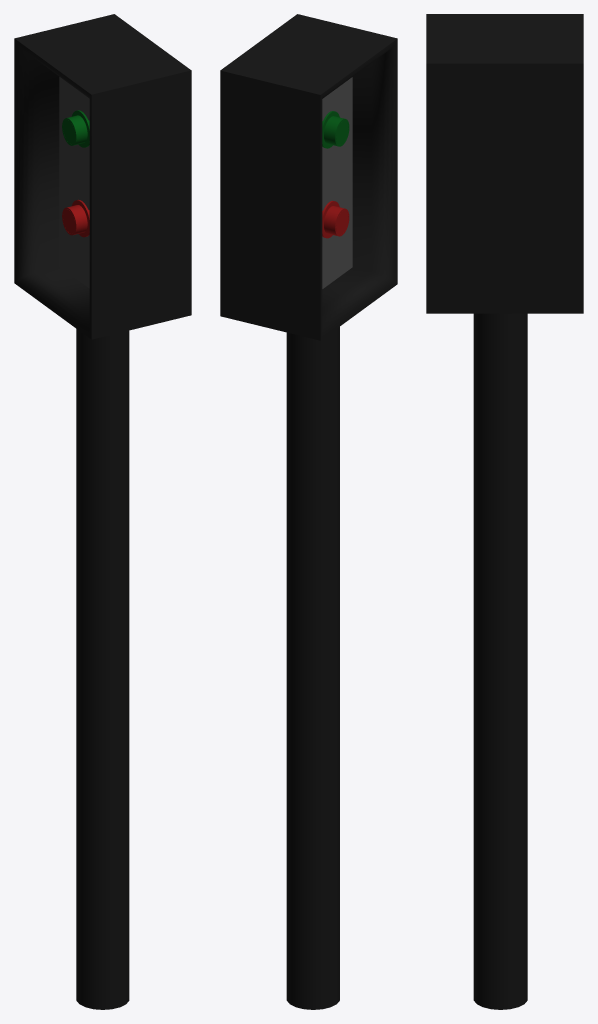
File: Button.FBX
3 renders of one model, left to right at view 1: azimuth 30°, elevation 25°; view 2: azimuth 150°, elevation 25°; view 3: azimuth 270°, elevation 25°, orthographic.
Visible parts, largest first — view 1: Box008, Cylinder002, 按鈕開關, 按鈕開關001; view 2: Box008, Cylinder002, 按鈕開關, 按鈕開關001; view 3: Box008, Cylinder002.
Part boxes in pixels (x1,y1,x2,y2): Box008: [14, 14, 191, 339]; Cylinder002: [76, 329, 129, 1009]; 按鈕開關: [62, 110, 89, 147]; 按鈕開關001: [62, 199, 89, 237]; Box008: [220, 14, 397, 340]; Cylinder002: [286, 327, 339, 1009]; 按鈕開關: [322, 111, 349, 148]; 按鈕開關001: [322, 200, 349, 238]; Box008: [426, 14, 583, 313]; Cylinder002: [473, 313, 527, 1009].
Size of the model in its own units: 4.54 by 40.91 by 6.06.
